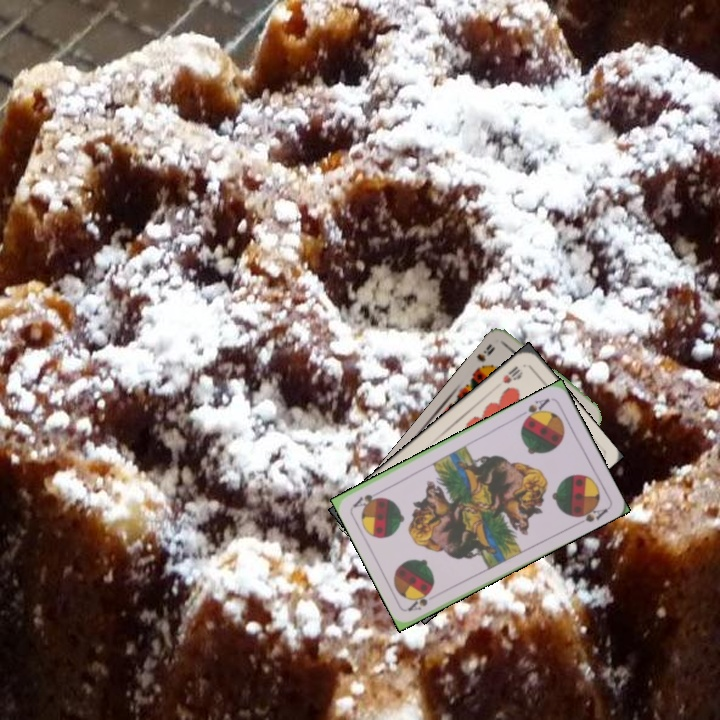H10: (498, 362, 526, 386)
S9: (471, 340, 498, 375)
SA: (519, 394, 552, 424), (404, 587, 434, 613)
